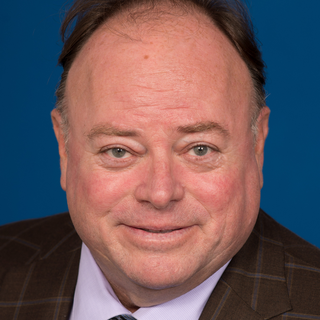eye: (94, 140, 143, 164), (175, 139, 223, 163)
